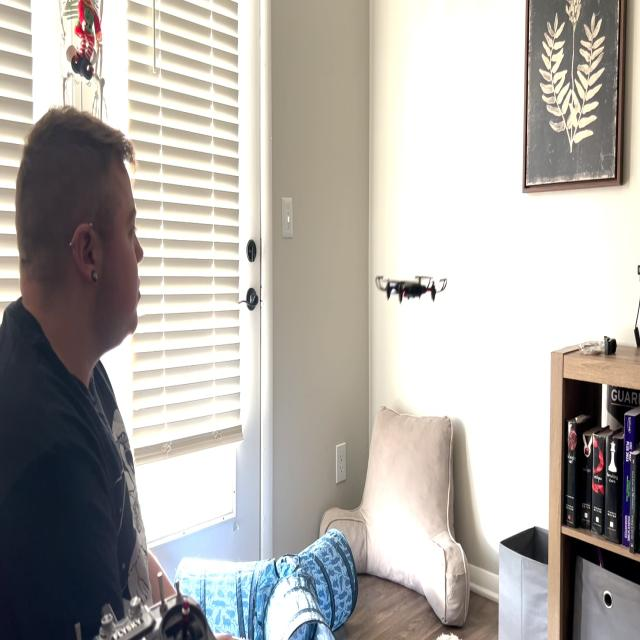drone: (368, 256, 456, 316)
